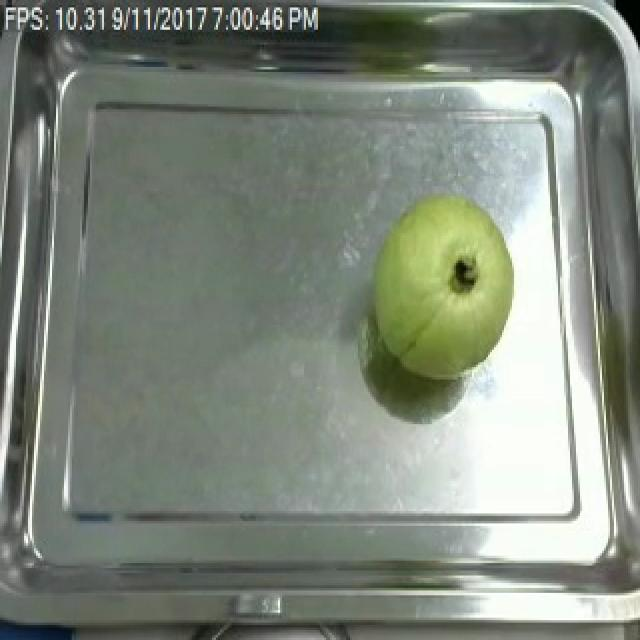Fruit: (360, 181, 524, 385)
